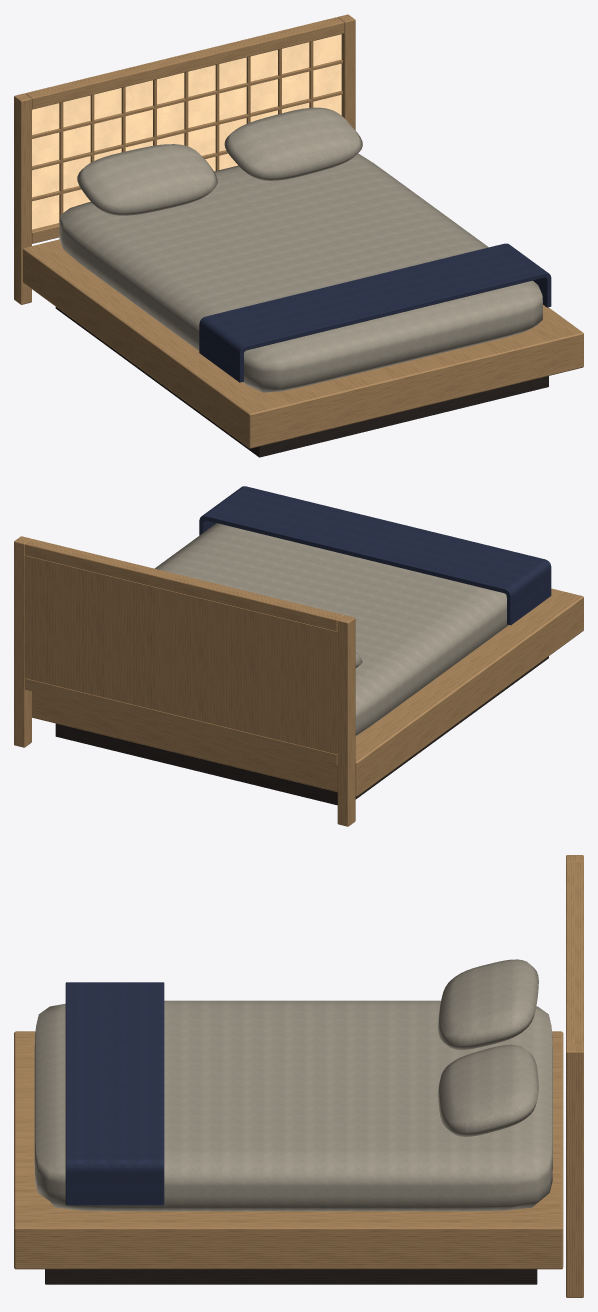
Rendered from bed.glb.
The picture shows the model from 3 angles, top to bottom: view 1: azimuth 30°, elevation 25°; view 2: azimuth 150°, elevation 25°; view 3: azimuth 270°, elevation 25°; orthographic projection. The views are drawn at different scales.
Parts seen in each view (by area): view 1: mattress_fabric_oat_0, platform_wood_oak_0, head_panel_paper_hanji_lit_0, runner_fabric_indigo_0, pillow_r_fabric_oat_0, pillow_l_fabric_oat_0, head_frame_wood_oak_2, platform_wood_ebony_1, head_frame_wood_oak_0, head_frame_wood_oak_1, head_frame_wood_oak_16, head_frame_wood_oak_15; view 2: head_frame_wood_oak_4, mattress_fabric_oat_0, platform_wood_oak_0, runner_fabric_indigo_0, head_frame_wood_oak_2, platform_wood_ebony_1, head_frame_wood_oak_0, head_frame_wood_oak_3, head_frame_wood_oak_1; view 3: mattress_fabric_oat_0, platform_wood_oak_0, runner_fabric_indigo_0, platform_wood_ebony_1, pillow_l_fabric_oat_0, pillow_r_fabric_oat_0, head_frame_wood_oak_1, head_frame_wood_oak_2.
Part boxes in pixels (bbox=[...]): mattress_fabric_oat_0: bbox=[59, 153, 542, 392]; platform_wood_oak_0: bbox=[22, 239, 583, 448]; head_panel_paper_hanji_lit_0: bbox=[32, 34, 341, 229]; runner_fabric_indigo_0: bbox=[199, 243, 551, 382]; pillow_r_fabric_oat_0: bbox=[77, 144, 217, 215]; pillow_l_fabric_oat_0: bbox=[224, 107, 362, 180]; head_frame_wood_oak_2: bbox=[25, 17, 344, 109]; platform_wood_ebony_1: bbox=[55, 307, 548, 457]; head_frame_wood_oak_0: bbox=[14, 93, 31, 304]; head_frame_wood_oak_1: bbox=[337, 14, 355, 129]; head_frame_wood_oak_16: bbox=[32, 59, 342, 138]; head_frame_wood_oak_15: bbox=[32, 90, 342, 170]; head_frame_wood_oak_4: bbox=[24, 555, 337, 754]; mattress_fabric_oat_0: bbox=[155, 523, 508, 735]; platform_wood_oak_0: bbox=[32, 588, 583, 796]; runner_fabric_indigo_0: bbox=[199, 486, 551, 625]; head_frame_wood_oak_2: bbox=[25, 539, 343, 631]; platform_wood_ebony_1: bbox=[55, 656, 548, 805]; head_frame_wood_oak_0: bbox=[337, 615, 355, 826]; head_frame_wood_oak_3: bbox=[25, 678, 337, 765]; head_frame_wood_oak_1: bbox=[14, 536, 31, 747]; mattress_fabric_oat_0: bbox=[34, 1000, 552, 1211]; platform_wood_oak_0: bbox=[14, 1031, 563, 1269]; runner_fabric_indigo_0: bbox=[65, 982, 164, 1205]; platform_wood_ebony_1: bbox=[45, 1269, 537, 1284]; pillow_l_fabric_oat_0: bbox=[438, 1044, 538, 1136]; pillow_r_fabric_oat_0: bbox=[438, 959, 538, 1049]; head_frame_wood_oak_1: bbox=[566, 1045, 583, 1297]; head_frame_wood_oak_2: bbox=[566, 861, 583, 1045].
Size of what is drawn, in the model's own units: 1.8 by 1.05 by 2.2.
10 materials, 9 textured.
